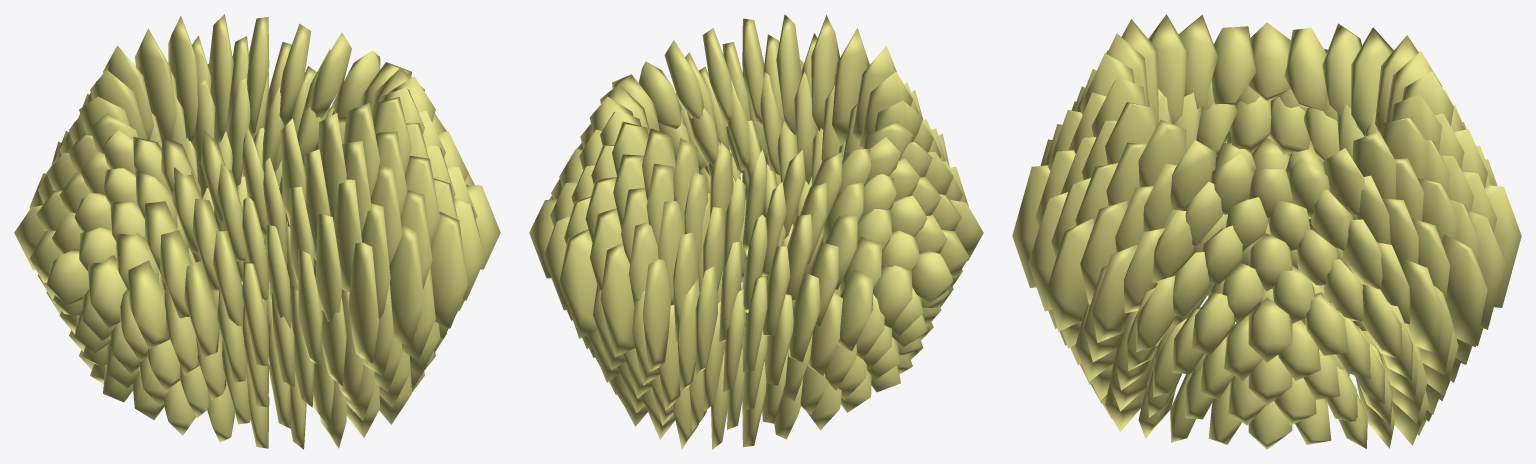
The model's file is torusScales2.fbx.
3 renders of one model, left to right at view 1: azimuth 30°, elevation 25°; view 2: azimuth 150°, elevation 25°; view 3: azimuth 270°, elevation 25°, orthographic. The views are drawn at different scales.
Visible parts, largest first — view 1: Torus; view 2: Torus; view 3: Torus.
Part boxes in pixels (x1,y1,x2,y2): Torus: (14,14,500,449); Torus: (529,14,983,449); Torus: (1012,14,1521,449).
Size of the model in its own units: 92.93 by 74.27 by 92.93.
